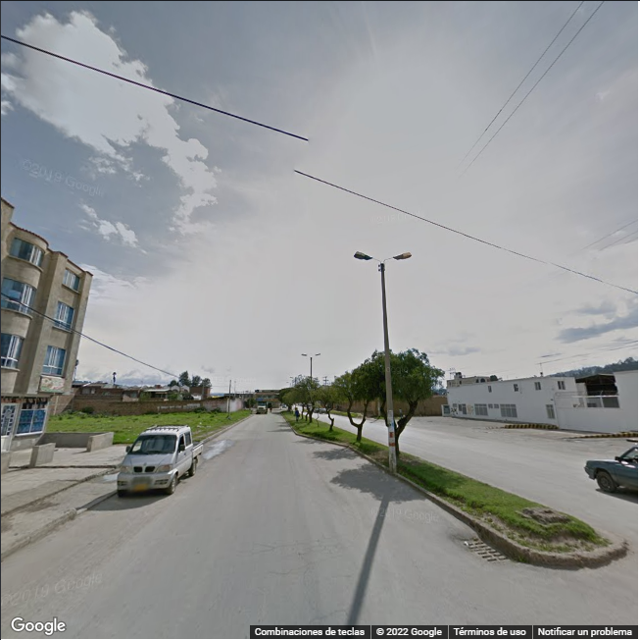D00: (298, 532, 311, 604)
D10: (308, 604, 353, 621), (258, 562, 305, 578)
